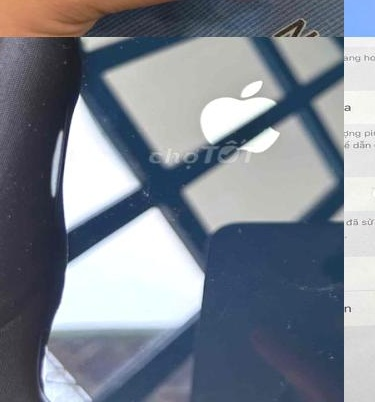scratch: (60, 37, 135, 100), (289, 309, 344, 368), (277, 260, 344, 300)
